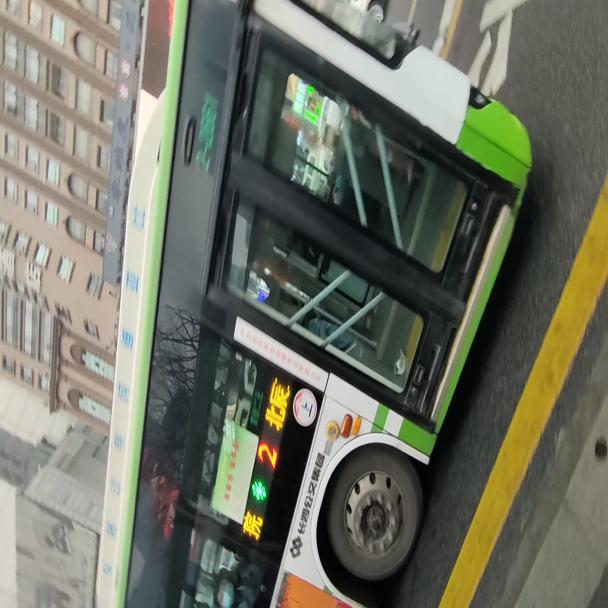bus: (95, 0, 532, 608)
screen: (256, 439, 278, 470)
